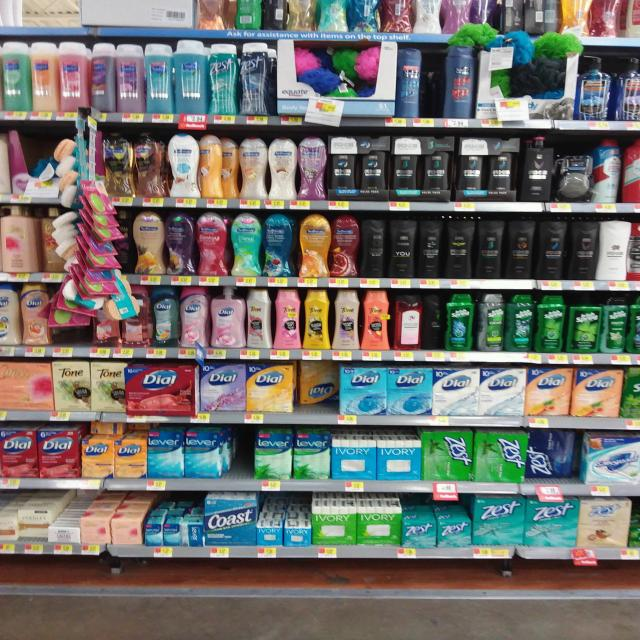unorganised: (528, 428, 578, 479), (88, 41, 119, 115), (297, 358, 340, 407), (423, 292, 443, 349), (222, 138, 239, 201), (18, 509, 50, 539), (89, 421, 123, 437)
